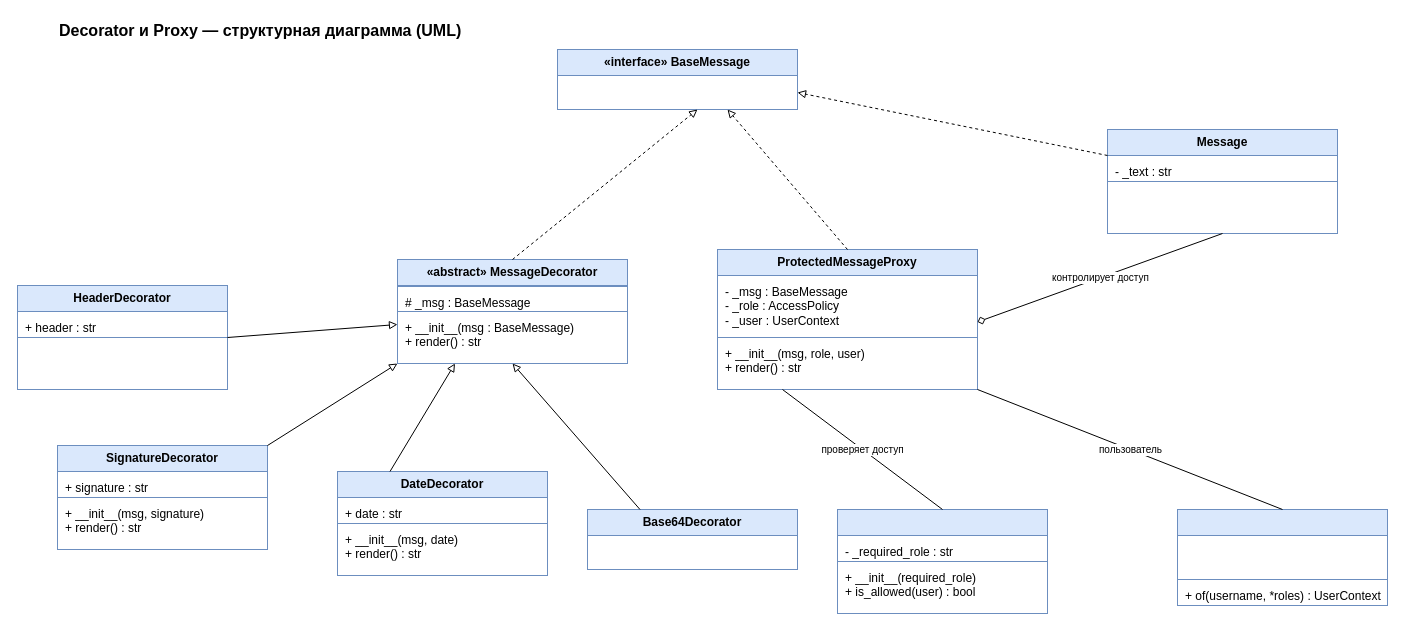
The diagram is 1405 pixels wide and 631 high, and some of its shapes have lost their labels. Here are the shapes that lost their labels. From the top down, the centre of each, then its label:
pixel 677 92: + render() : str {abstract}
pixel 1222 207: + __init__(text : str) + render() : str
pixel 122 363: + __init__(msg, header) + render() : str
pixel 942 522: AccessPolicy
pixel 1282 522: «dataclass» UserContext
pixel 692 552: + render() : str
pixel 1282 557: + username : str + roles : frozenset[str]
